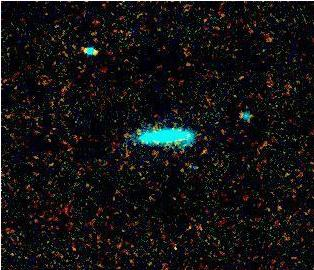star: (191, 133, 221, 163)
